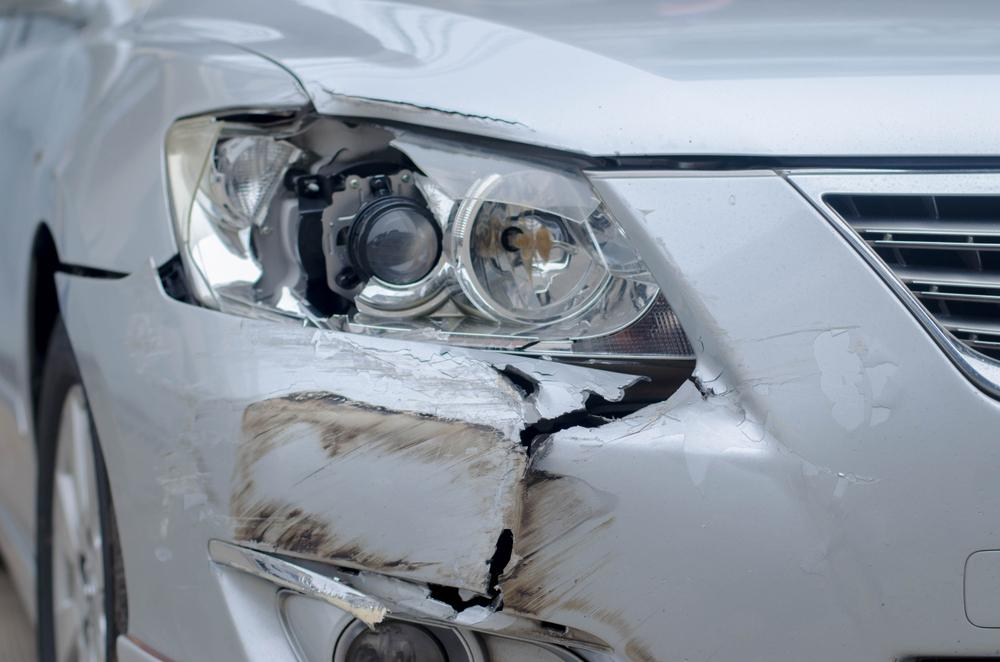crack: (520, 374, 732, 459), (425, 528, 513, 614), (492, 364, 538, 397)
lamp broken: (164, 113, 699, 369)
scratch: (232, 330, 662, 662)
